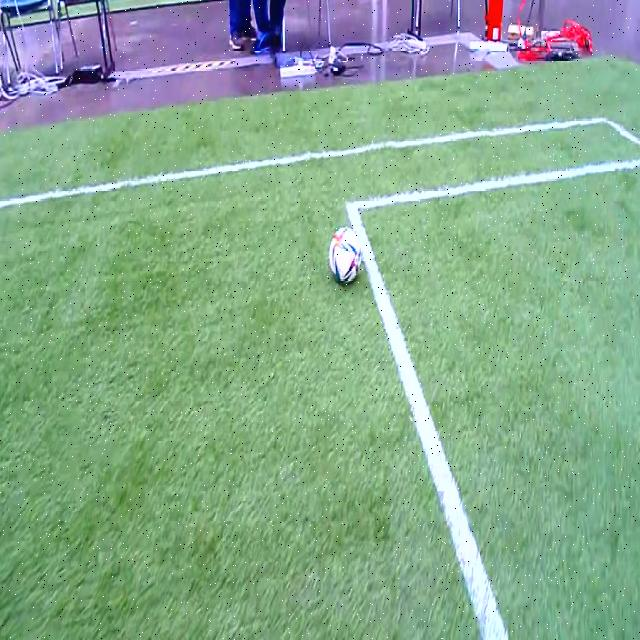ball: (329, 226, 361, 283)
